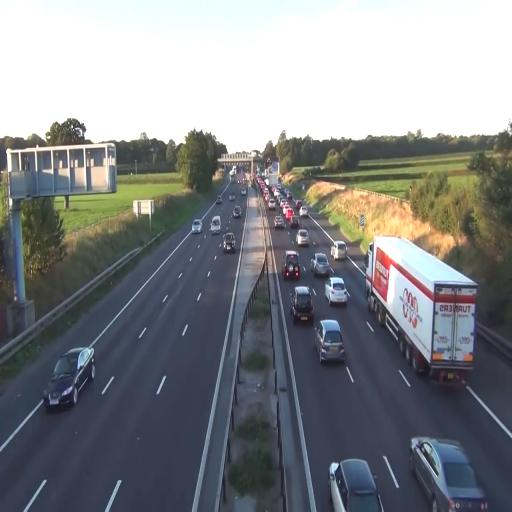vehicle: (366, 235, 478, 384), (410, 436, 488, 510), (43, 346, 96, 411), (328, 457, 384, 512), (315, 318, 346, 363), (290, 283, 315, 324), (325, 277, 349, 306), (284, 250, 300, 280), (328, 240, 348, 264), (312, 253, 331, 277), (294, 228, 310, 248), (222, 231, 236, 253), (210, 215, 221, 234), (192, 219, 202, 233)
